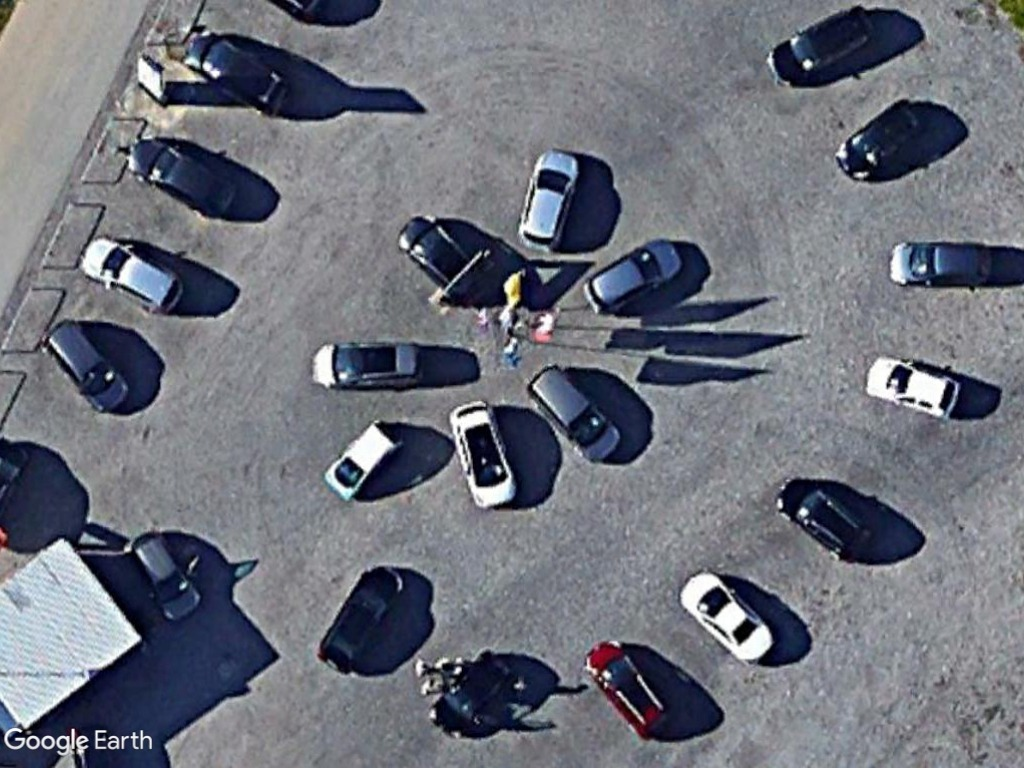car: (764, 2, 884, 95), (315, 561, 408, 677), (576, 636, 675, 744), (674, 567, 777, 665), (527, 360, 623, 465), (126, 134, 239, 221), (179, 33, 289, 121), (78, 231, 187, 316), (42, 319, 134, 418), (773, 474, 873, 562), (830, 98, 928, 183), (450, 394, 520, 513), (581, 238, 687, 316), (515, 144, 585, 254), (321, 416, 407, 504), (129, 533, 206, 627), (861, 352, 963, 419), (309, 336, 428, 393), (885, 238, 996, 288)
